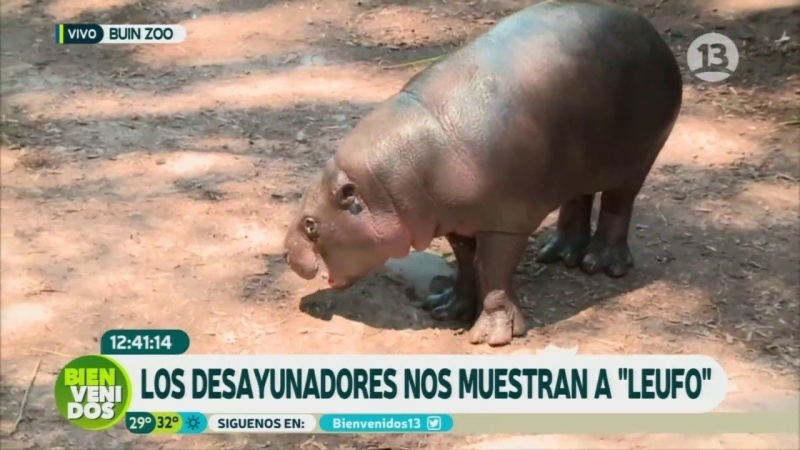hipopotamo: (272, 1, 703, 350)
